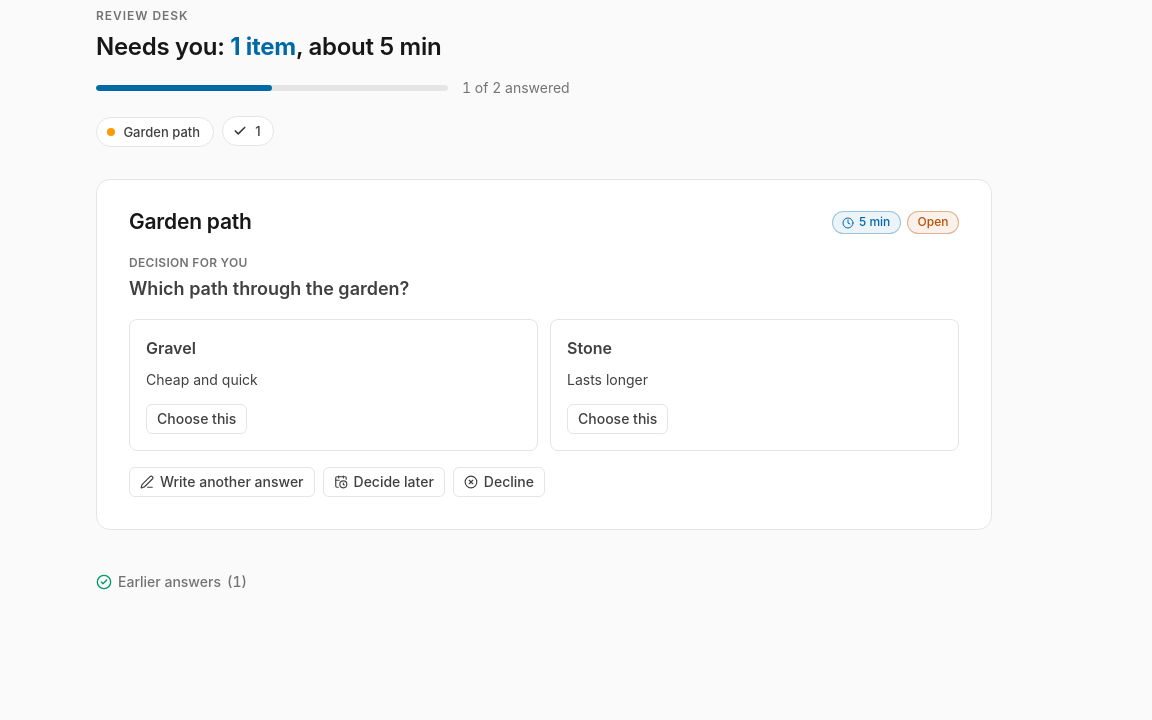
Test: the hand-back prompt › falls back to "the agent" when no agent wrote it
The width and height of the screenshot is (1152, 720).
Click the button with aria-label "Choose Stone" at (618, 419), box [567, 404, 668, 434]
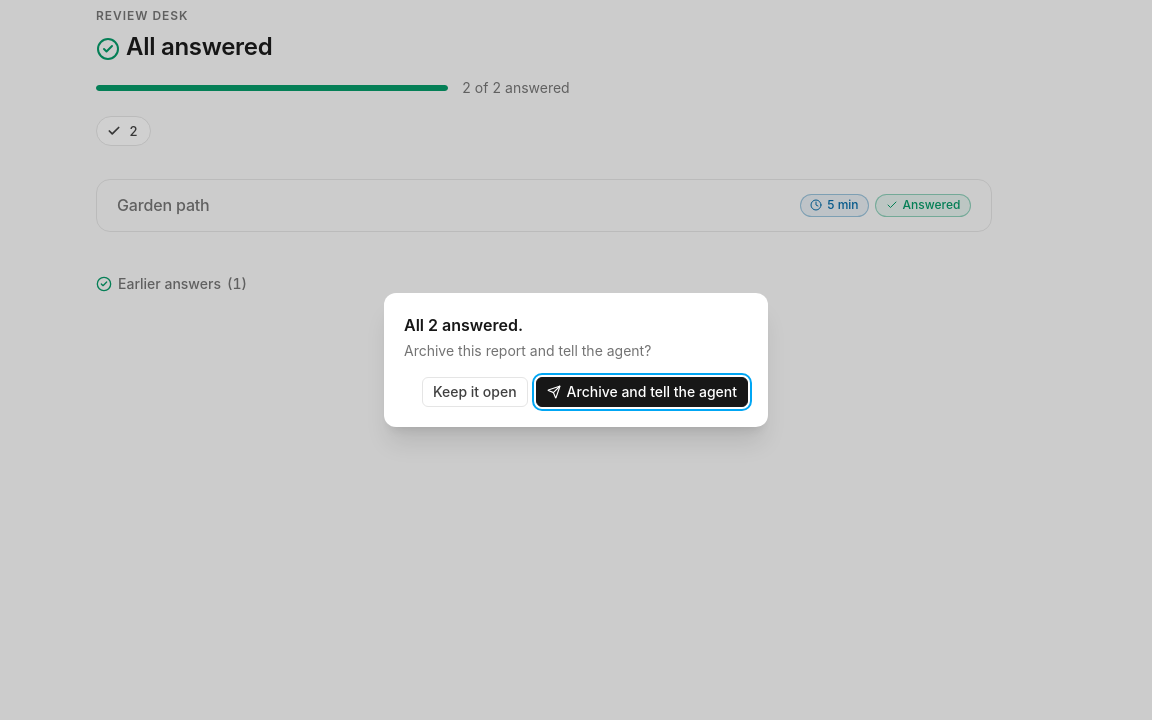
Check: the text "Archive this report and tell the agent?" is shown, box [404, 342, 651, 359]
